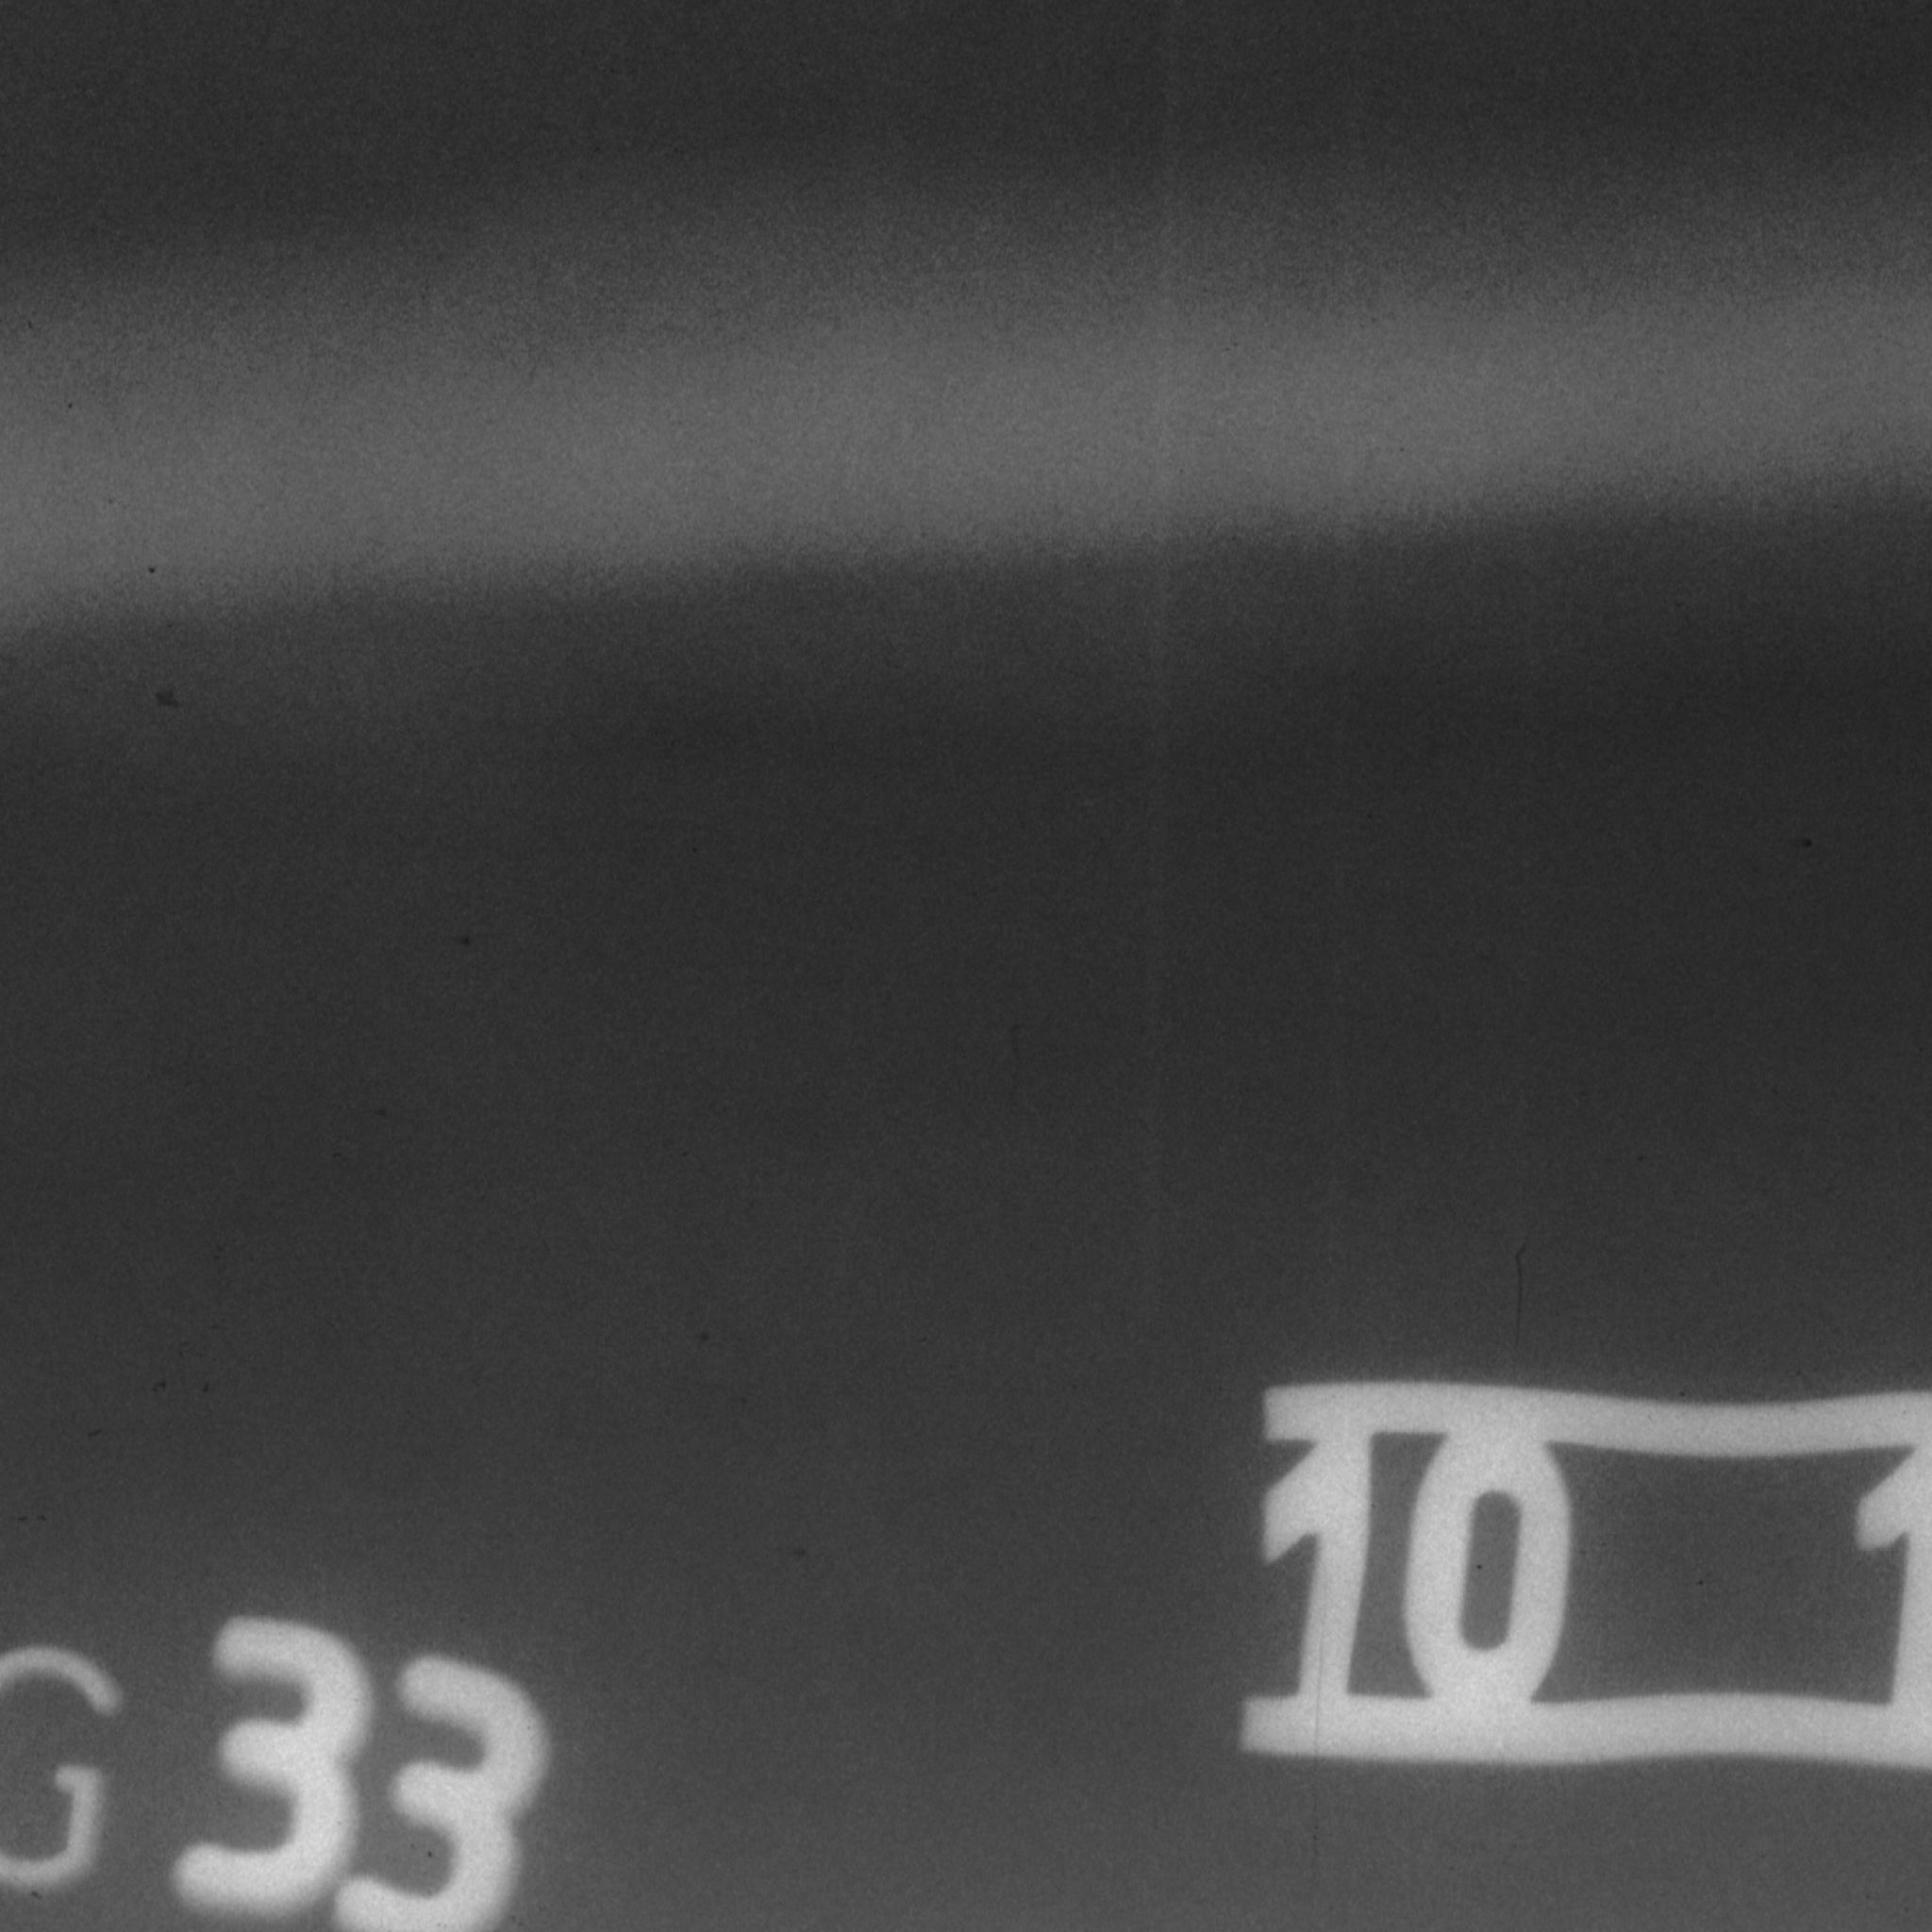Sem defeitos: (0, 179, 1932, 605)
